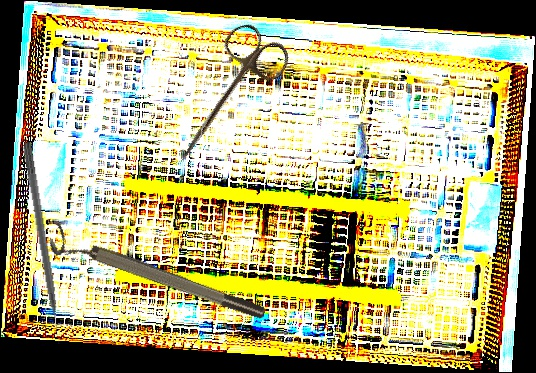Fixation Ring: (44, 222, 269, 333)
Iris Scissors: (156, 17, 296, 181)
Pusher: (20, 141, 64, 346)
